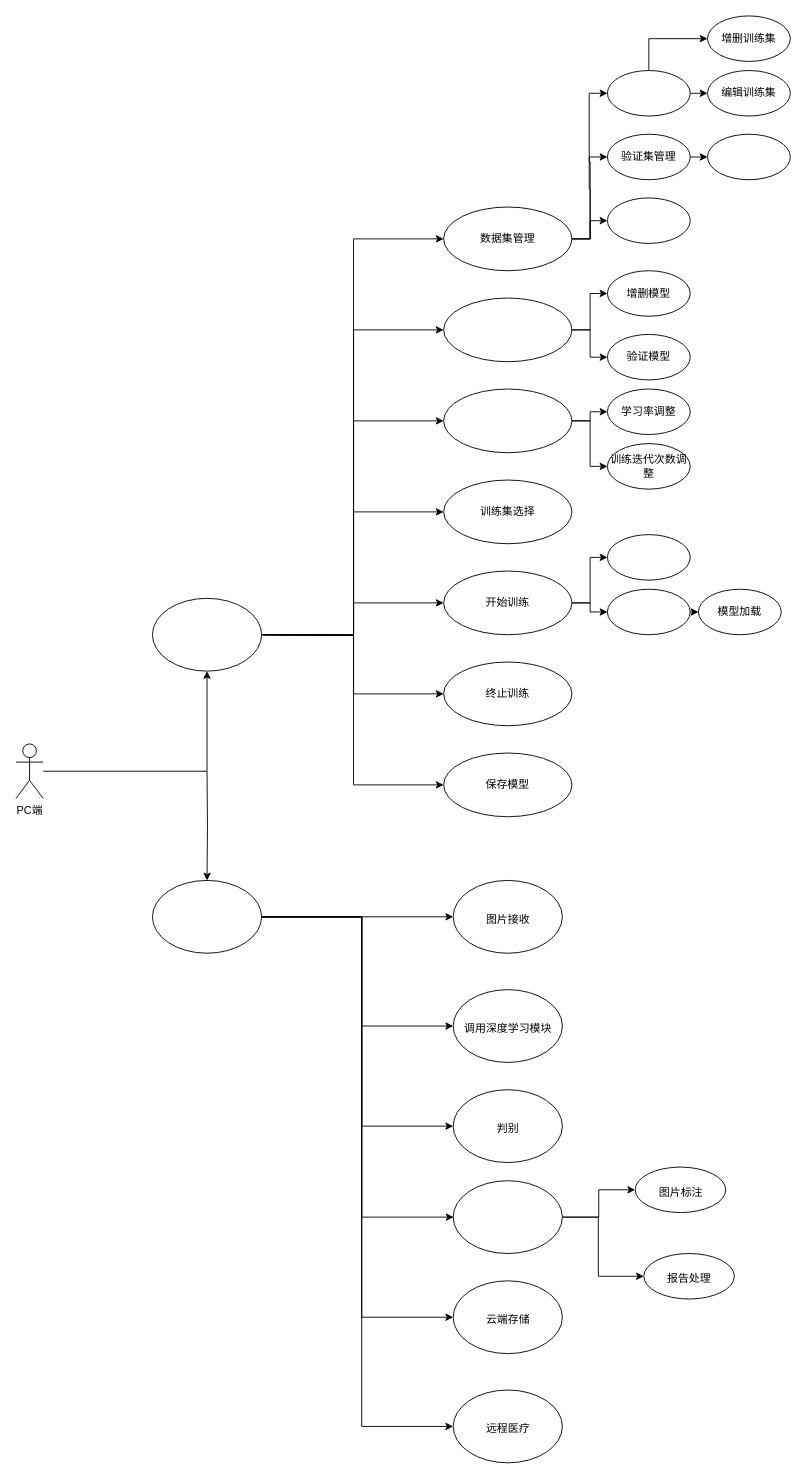
The diagram is 806 pixels wide and 1479 high, and some of its shapes have lost their labels. The centre of each missing label's shape, as x and y in pixels:
增删验证集: pixel 748 156
模型管理: pixel 507 329
测试集管理: pixel 648 220
深度学习模块: pixel 207 634
生成报告: pixel 507 1217
症状诊断模块: pixel 207 916
继续训练: pixel 648 611
训练参数调整: pixel 507 420
训练集管理: pixel 648 93
重新训练: pixel 648 557
